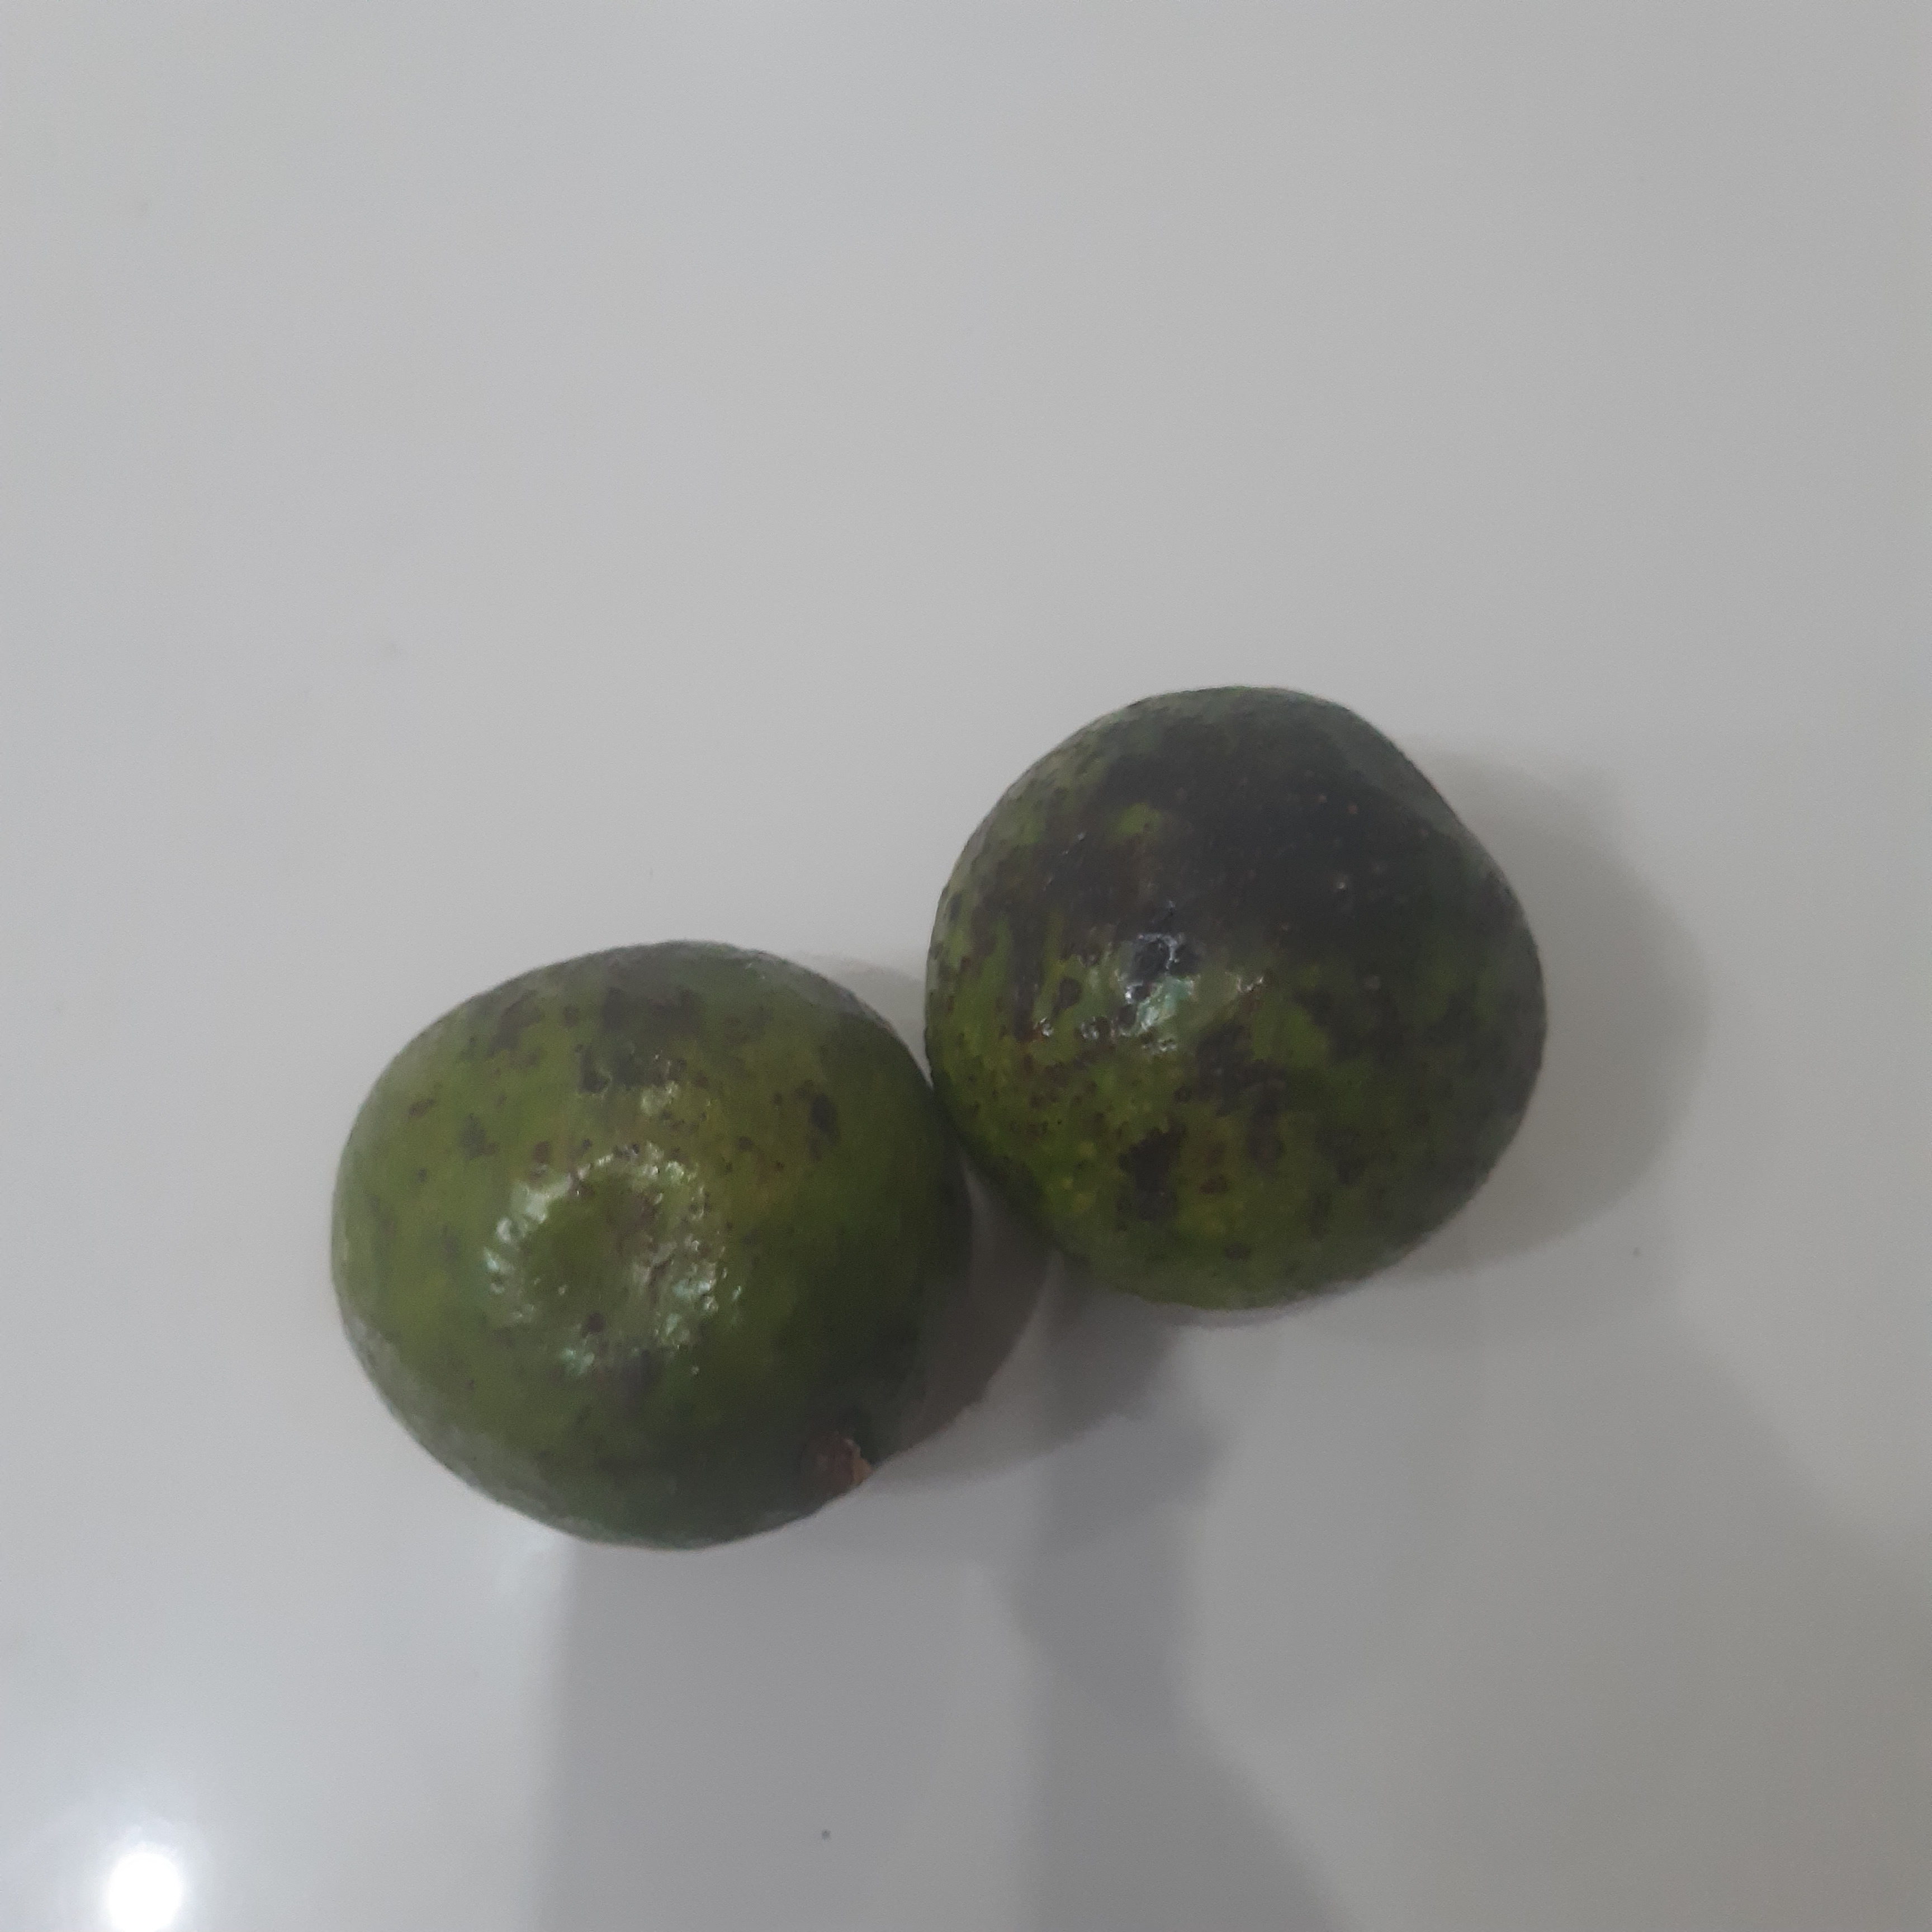Bo: (920, 679, 1550, 1318), (329, 943, 977, 1552)
